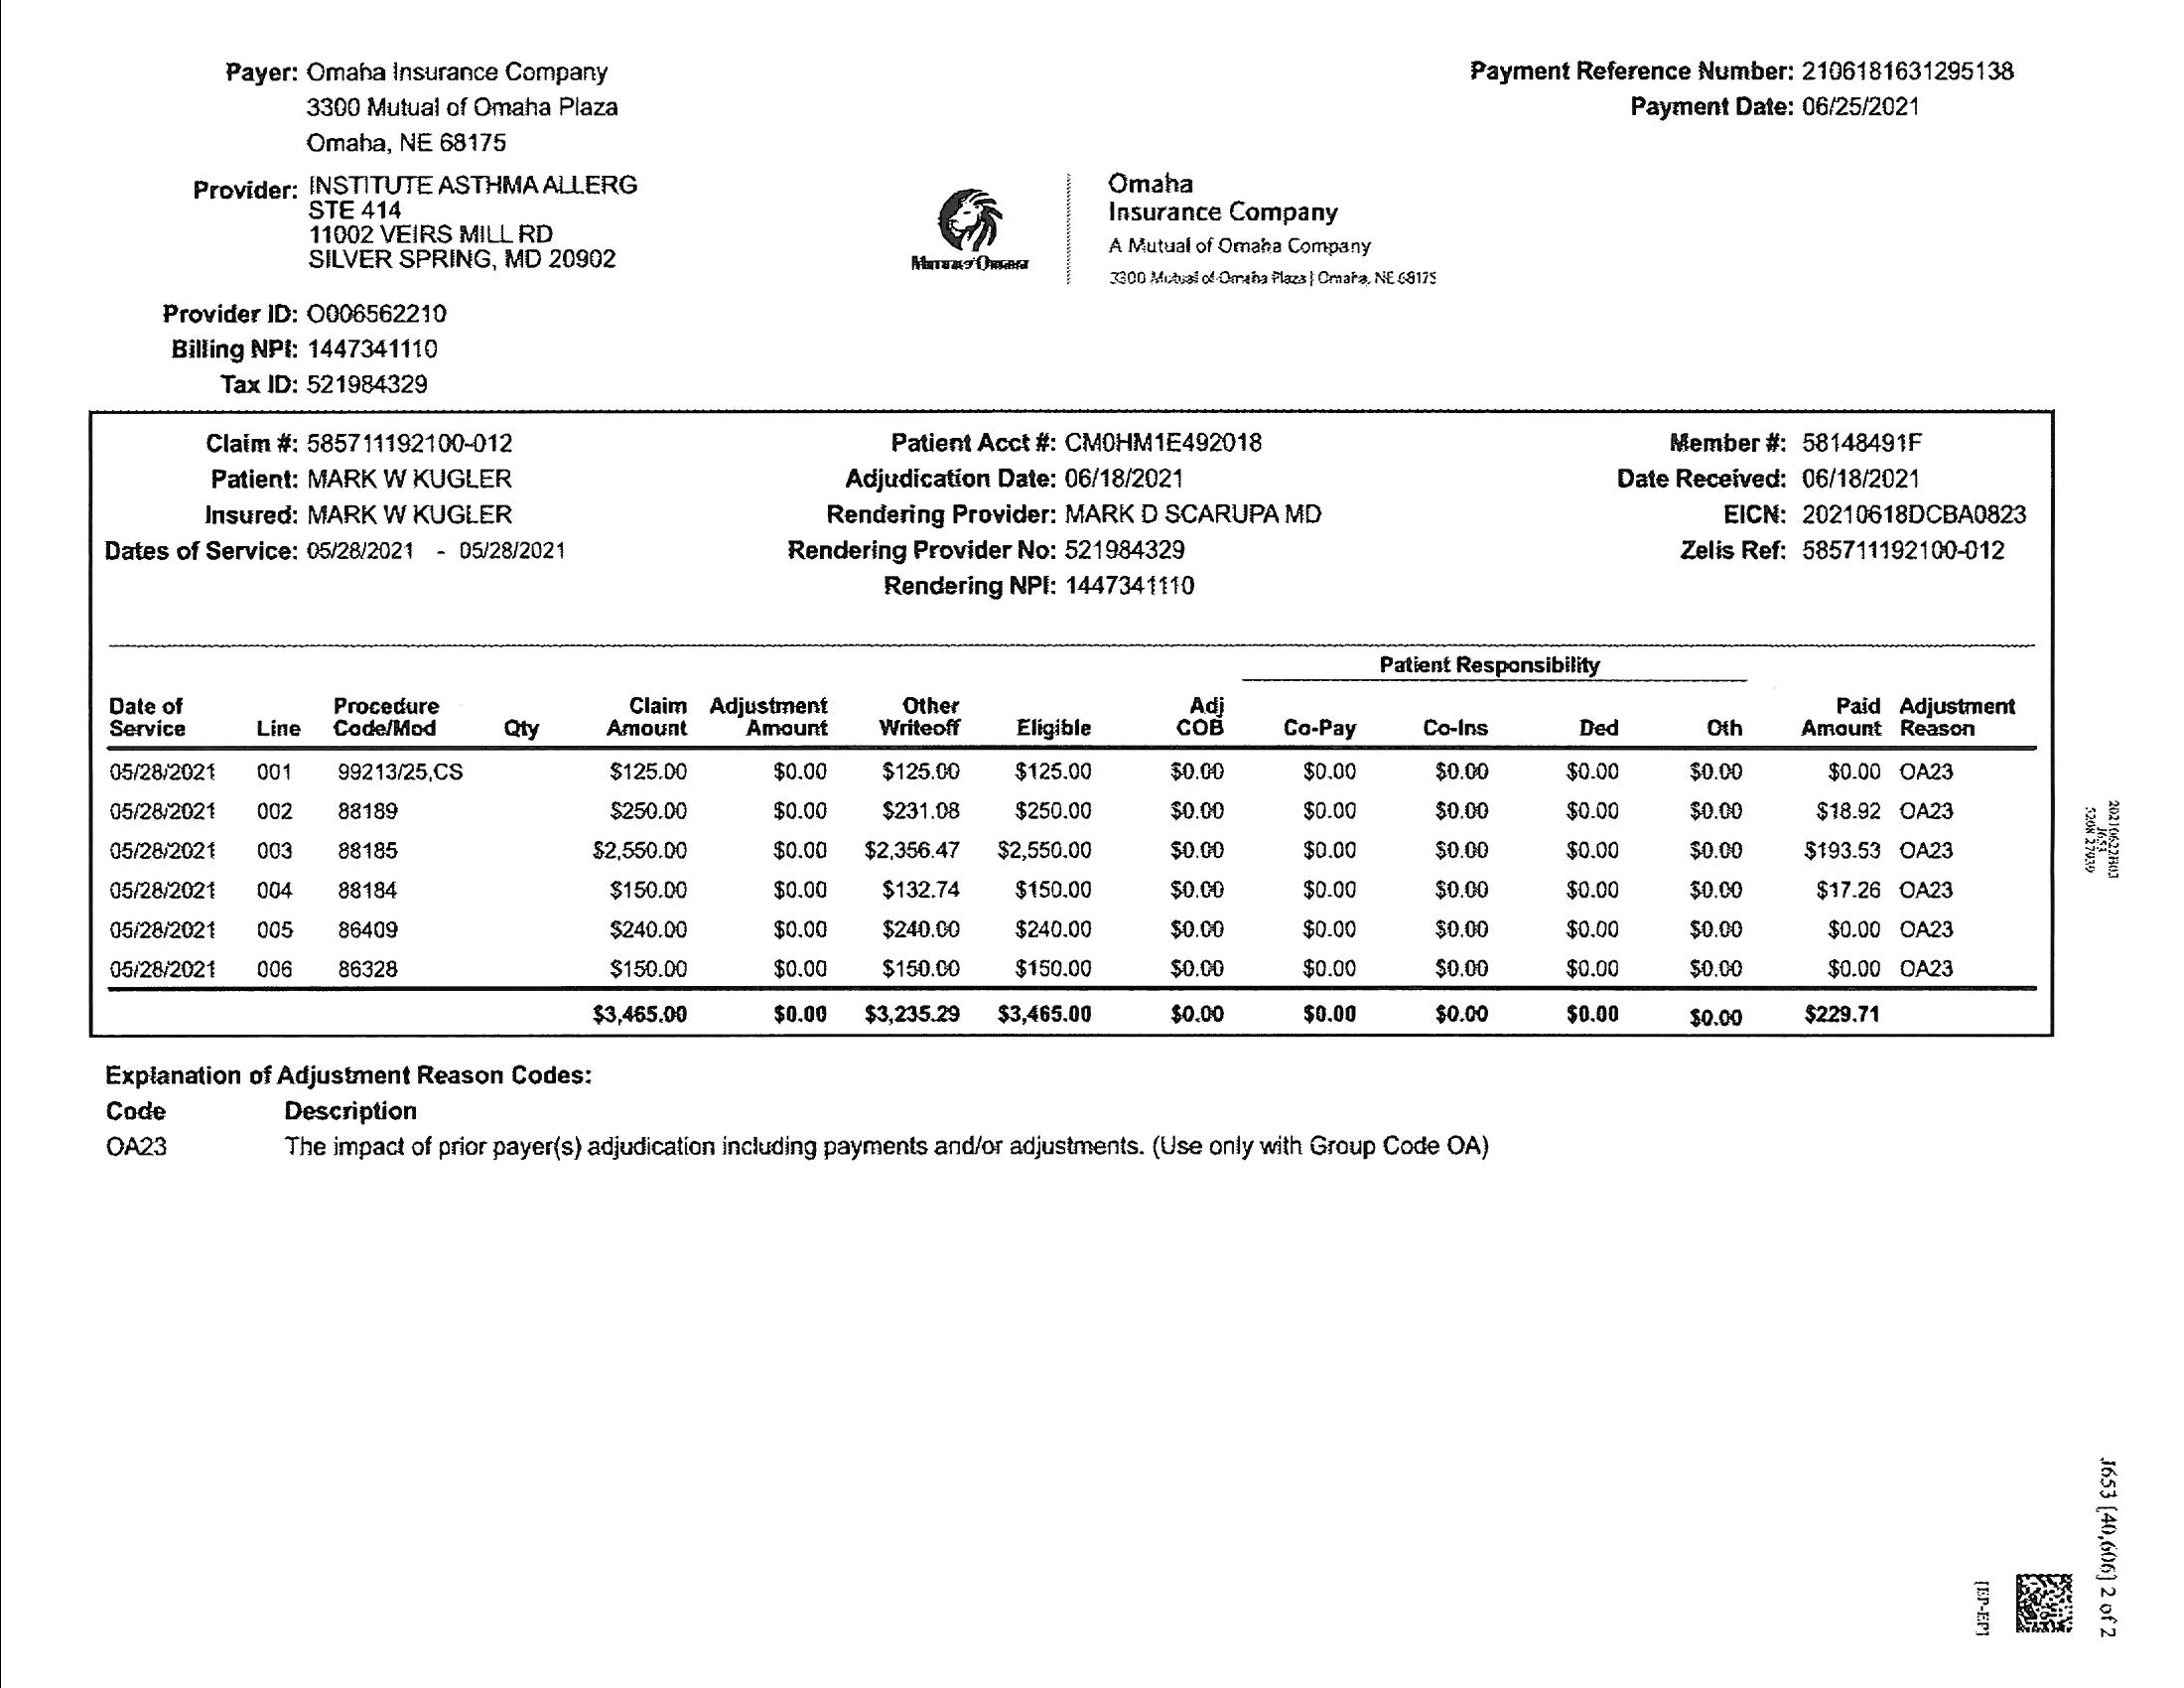data: (773, 420, 1347, 624), (101, 418, 601, 596), (1615, 422, 2042, 603), (172, 172, 645, 287), (211, 37, 640, 163), (142, 294, 463, 404)
table: (74, 626, 2071, 1050)
